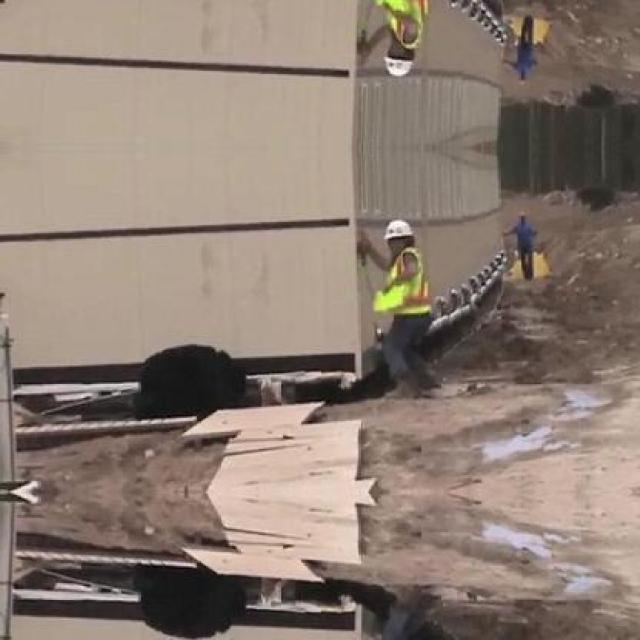helmet: (382, 212, 418, 244)
